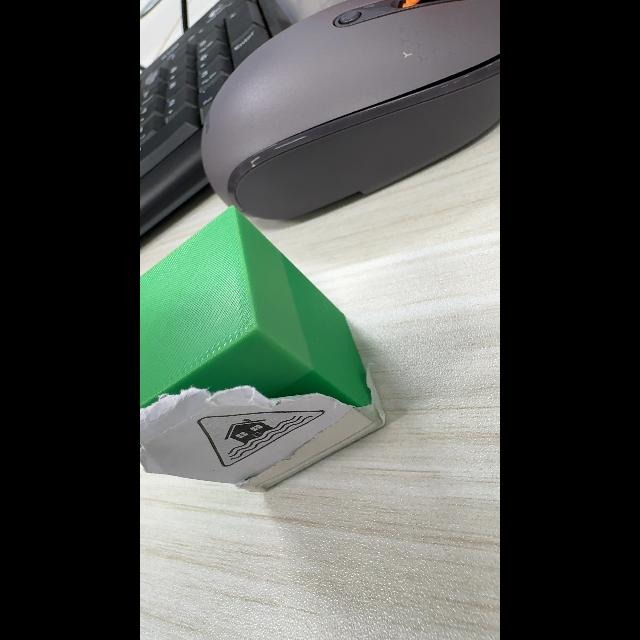Tsunami: (198, 410, 324, 466)
